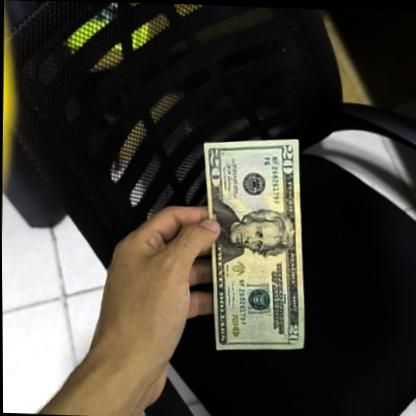dollar_front: (197, 130, 309, 351)
